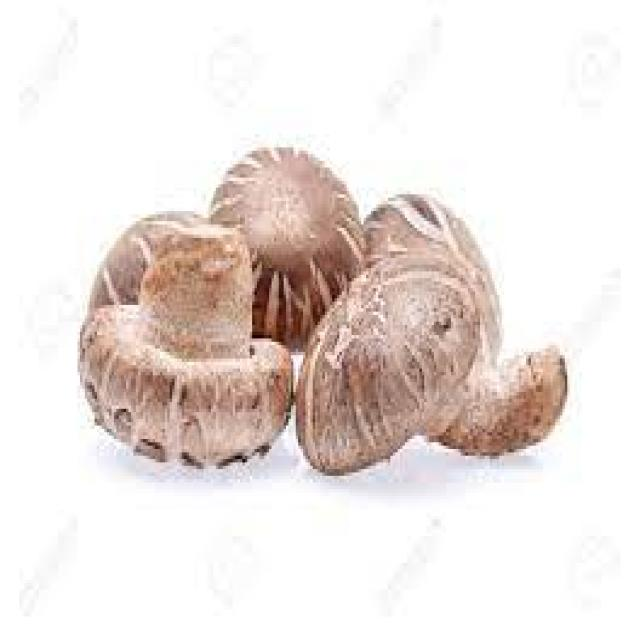Mushroom: (298, 258, 567, 476), (81, 224, 292, 469)
